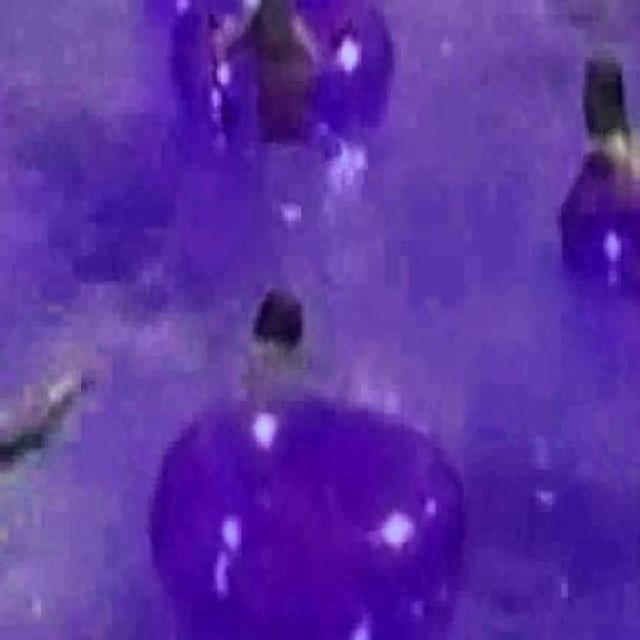drowning: (241, 281, 316, 385)
